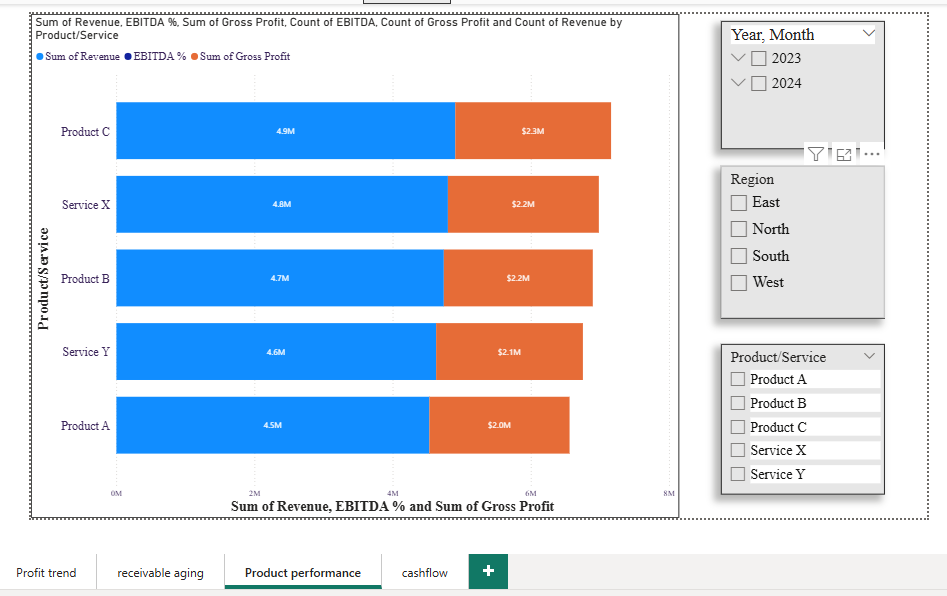

The page's visual inventory and layout, read from the dashboard file:
{"tool":"powerbi","page":{"name":"Product performance","canvas":[1280,720],"ordinal":2},"visuals":[{"type":"barChart","fields":{"Category":["Data.Product/Service"],"Y":["Sum(Data.Revenue)","Data.EBITDA %","Sum(Data.Gross Profit)"]},"box":[0,0,926.3,720],"z":0},{"type":"slicer","fields":{"Values":["Data.Month.Variation.Date Hierarchy.Year","Data.Month.Variation.Date Hierarchy.Month"]},"box":[986.3,10.2,234.1,182.9],"z":1000},{"type":"slicer","fields":{"Values":["Data.Region"]},"box":[986.3,216.6,234.1,218],"z":2000},{"type":"slicer","fields":{"Values":["Data.Product/Service"]},"box":[986.3,471.2,234.1,215.1],"z":2001}]}

Visuals, with their boxes in screenshot pixels (x1, y1, x2, y2):
barChart - Data.Product/Service x Sum(Data.Revenue): [left=27, top=10, right=679, bottom=517]
slicer - Data.Month.Variation.Date Hierarchy.Year x Data.Month.Variation.Date Hierarchy.Month: [left=721, top=17, right=886, bottom=146]
slicer - Data.Region: [left=721, top=162, right=886, bottom=316]
slicer - Data.Product/Service: [left=721, top=341, right=886, bottom=493]
